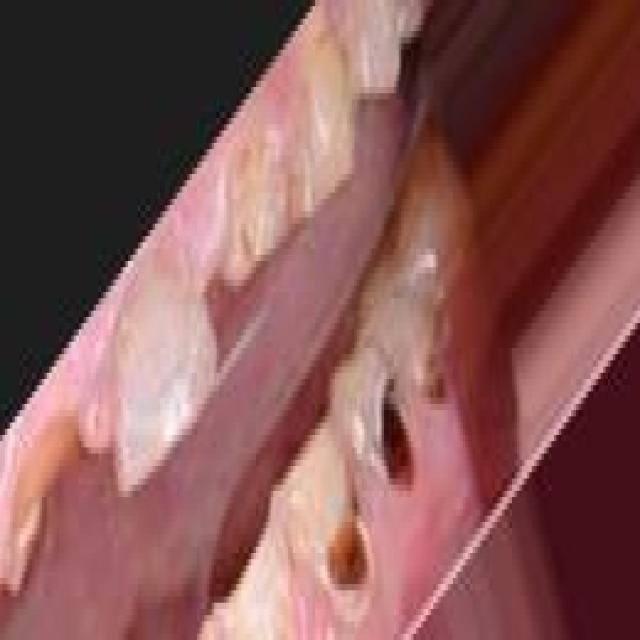caries: (10, 408, 97, 613), (300, 462, 382, 630), (356, 346, 429, 513), (224, 134, 299, 278)
